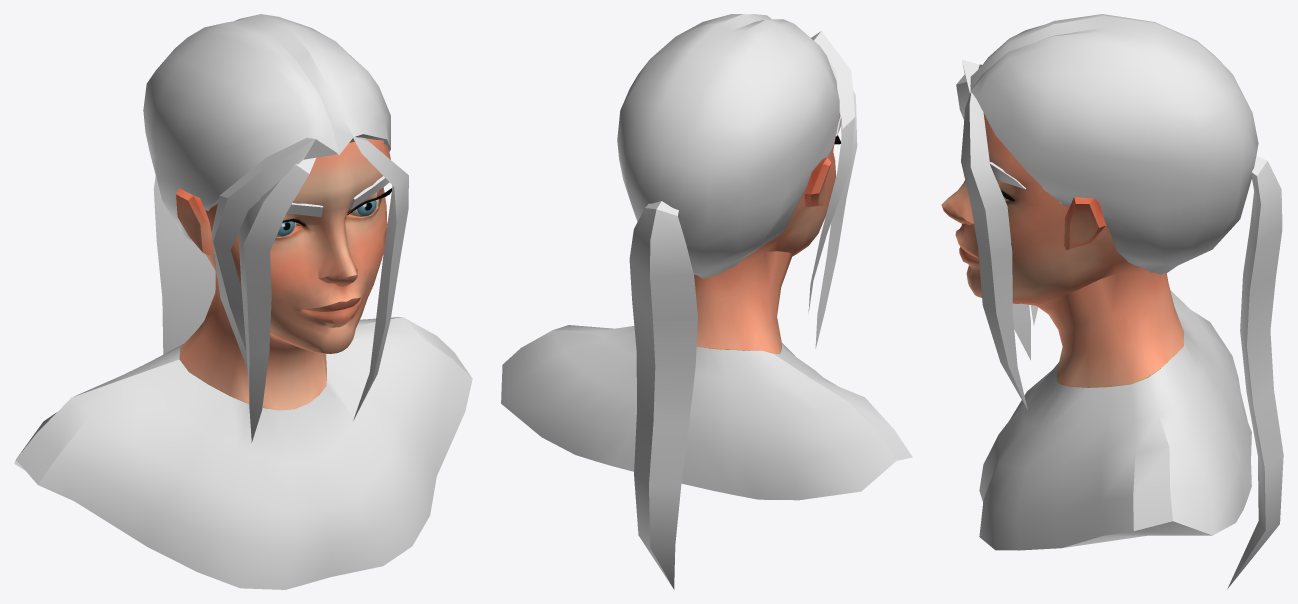
File: Female_Avatar_NoColors.fbx
3 renders of one model, left to right at view 1: azimuth 30°, elevation 25°; view 2: azimuth 150°, elevation 25°; view 3: azimuth 270°, elevation 25°, orthographic. The views are drawn at different scales.
Parts seen in each view (by area): view 1: Head MULTI, Hair 2, NurbsPath.014, NurbsPath.009, Ponytail, NurbsPath.004, Eyebrow; view 2: Head MULTI, Hair 2, Ponytail, NurbsPath.009, NurbsPath.014; view 3: Head MULTI, Hair 2, Ponytail, NurbsPath.004, NurbsPath.014.
Boxes of the visible parts, x1,y1,x2,y2 form: Head MULTI: [14, 138, 472, 589]; Hair 2: [143, 14, 390, 241]; NurbsPath.014: [238, 158, 315, 442]; NurbsPath.009: [211, 137, 337, 370]; Ponytail: [153, 175, 215, 354]; NurbsPath.004: [353, 137, 408, 420]; Eyebrow: [286, 176, 389, 217]; Head MULTI: [501, 113, 912, 500]; Hair 2: [617, 14, 839, 278]; Ponytail: [629, 201, 697, 589]; NurbsPath.009: [808, 31, 855, 314]; NurbsPath.014: [815, 62, 857, 348]; Head MULTI: [941, 113, 1251, 550]; Hair 2: [970, 14, 1258, 274]; Ponytail: [1227, 156, 1283, 589]; NurbsPath.004: [961, 92, 1027, 409]; NurbsPath.014: [956, 74, 1030, 360].
Bounding box in the file's own units: 53.78 × 67.93 × 37.25.
3 materials, 1 textured.
